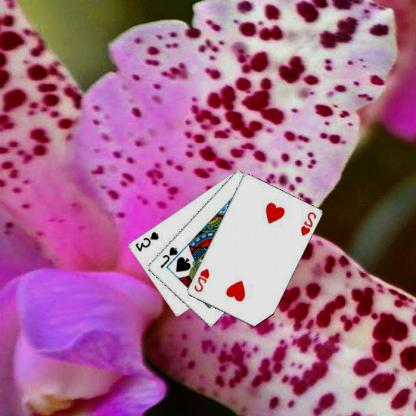2H: (300, 209, 319, 237), (193, 266, 212, 293)
3S: (134, 229, 162, 253)
JS: (159, 245, 181, 270)
